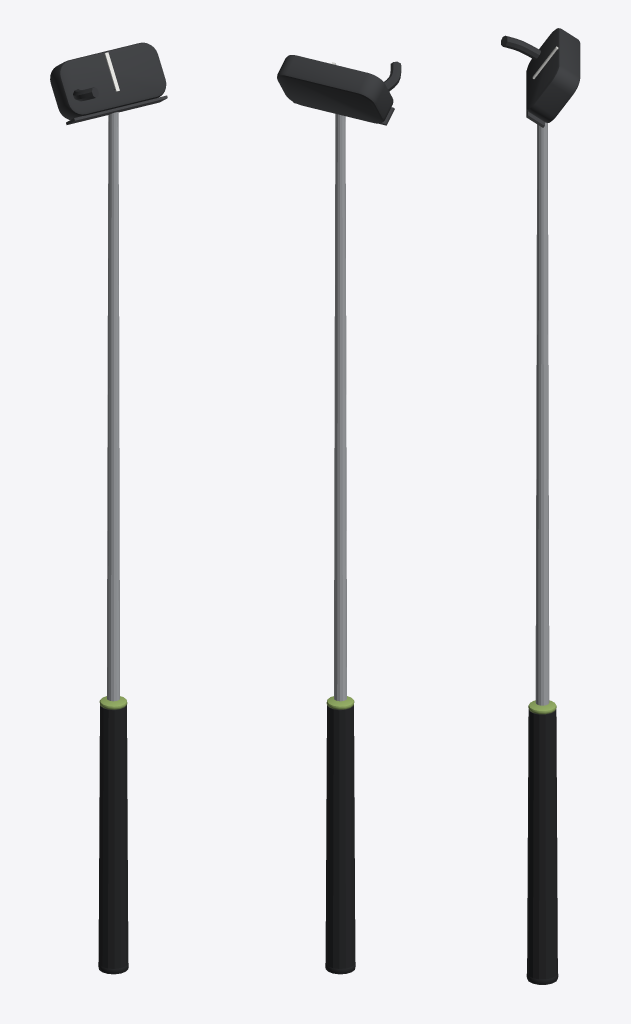
The model's file is pf_putter_wide_blade.glb.
3 views of the same model, side by side, from view 1: azimuth 30°, elevation 25°; view 2: azimuth 150°, elevation 25°; view 3: azimuth 270°, elevation 25° (orthographic). The views are drawn at different scales.
Visible parts, largest first — view 1: pf_putter_wide_blade_body.001; view 2: pf_putter_wide_blade_body.001; view 3: pf_putter_wide_blade_body.001.
Part boxes in pixels (x1,y1,x2,y2): pf_putter_wide_blade_body.001: [50, 42, 167, 974]; pf_putter_wide_blade_body.001: [277, 55, 401, 974]; pf_putter_wide_blade_body.001: [501, 28, 580, 984].
Bounding box in the file's own units: 0.13 × 0.9 × 0.13.
Materials: 8 (1 with a texture image).
